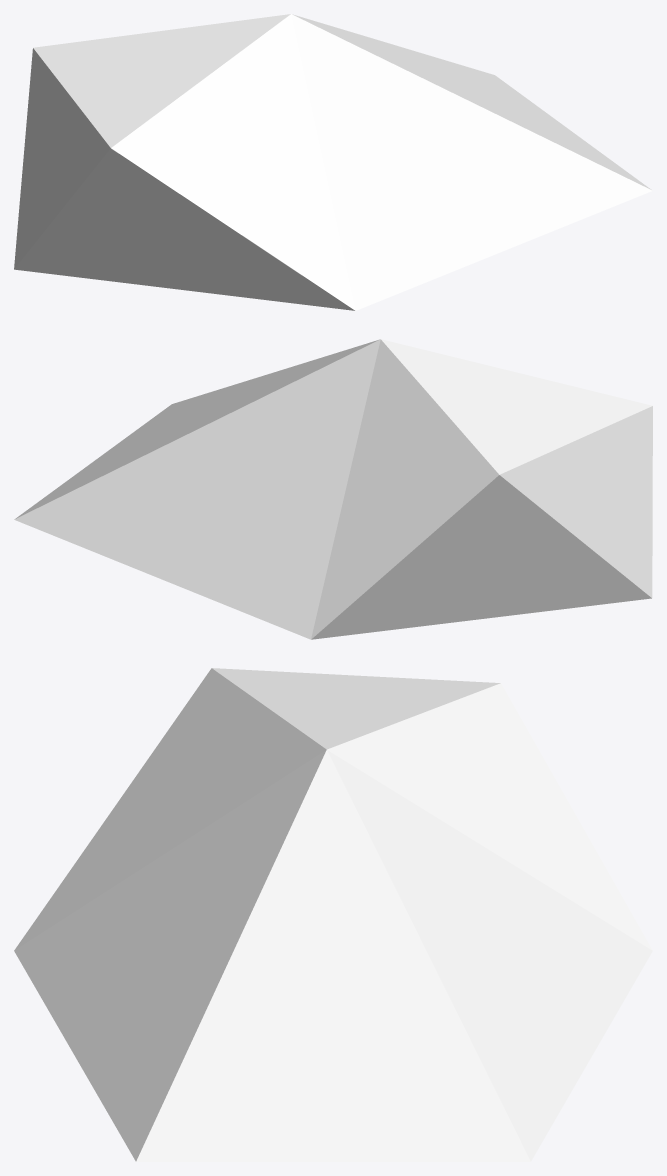
Rendered from Icemound2.fbx.
3 renders of one model, top to bottom at view 1: azimuth 30°, elevation 25°; view 2: azimuth 150°, elevation 25°; view 3: azimuth 270°, elevation 25°, orthographic. The views are drawn at different scales.
Parts seen in each view (by area): view 1: Icemound2; view 2: Icemound2; view 3: Icemound2.
Boxes of the visible parts, x1,y1,x2,y2 form: Icemound2: [14, 14, 652, 310]; Icemound2: [14, 339, 652, 639]; Icemound2: [14, 668, 652, 1161].
Size of the model in its own units: 1.46 by 0.4751 by 1.16.
